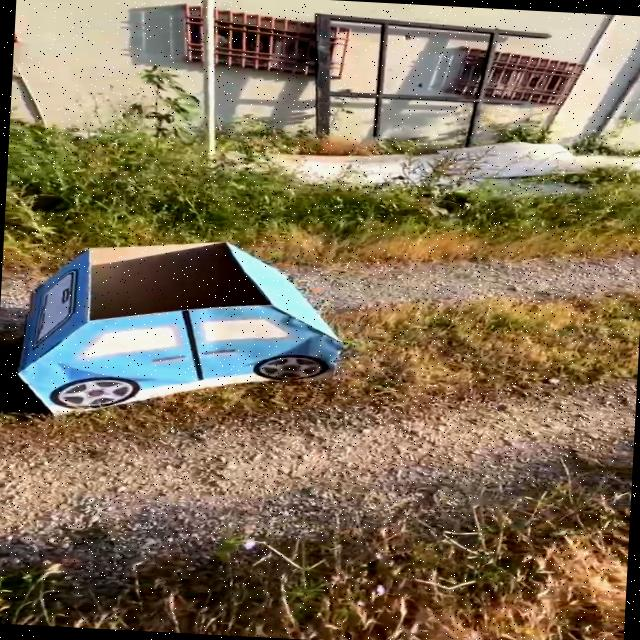blue_car: (0, 197, 390, 458)
